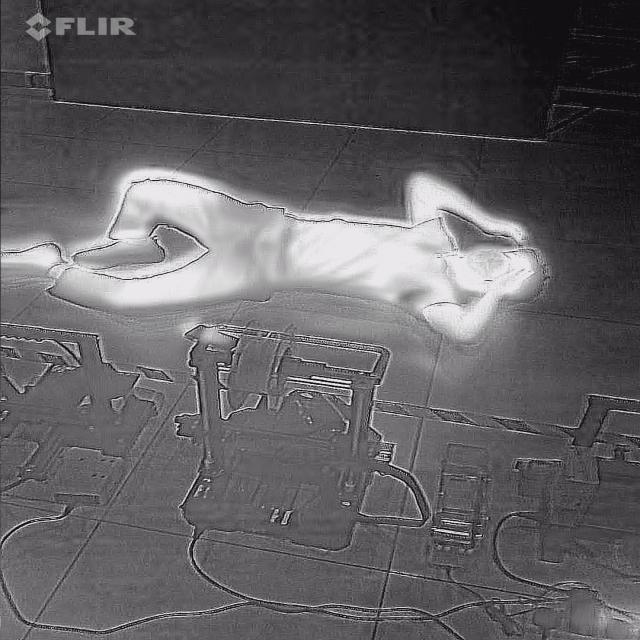Victim: (0, 168, 573, 348)
